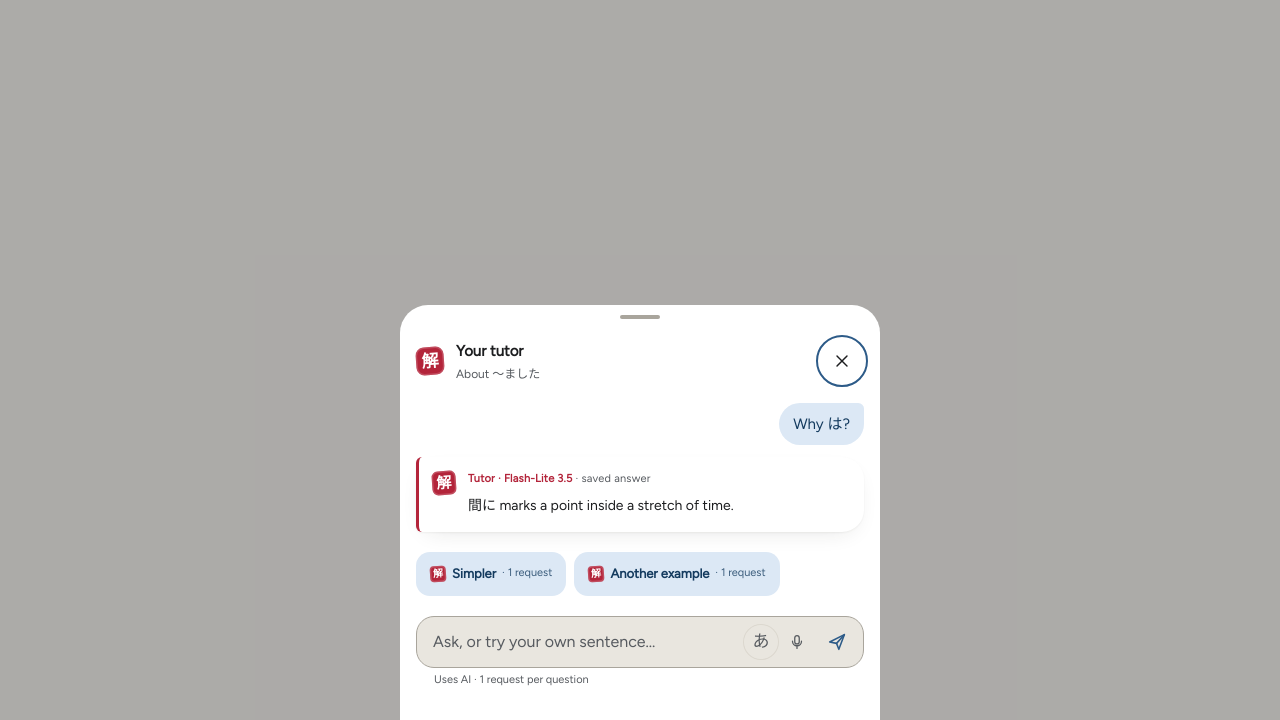
Scenario: TutorSheet › keeps the conversation to carry on, and carries on with its turns
The width and height of the screenshot is (1280, 720).
Expected: the element "answer" is shown, [416,457,864,532]
Type "And casually?" into the field named "Ask the tutor" at (586, 642), box [433,616,739,666]
Then press Enter
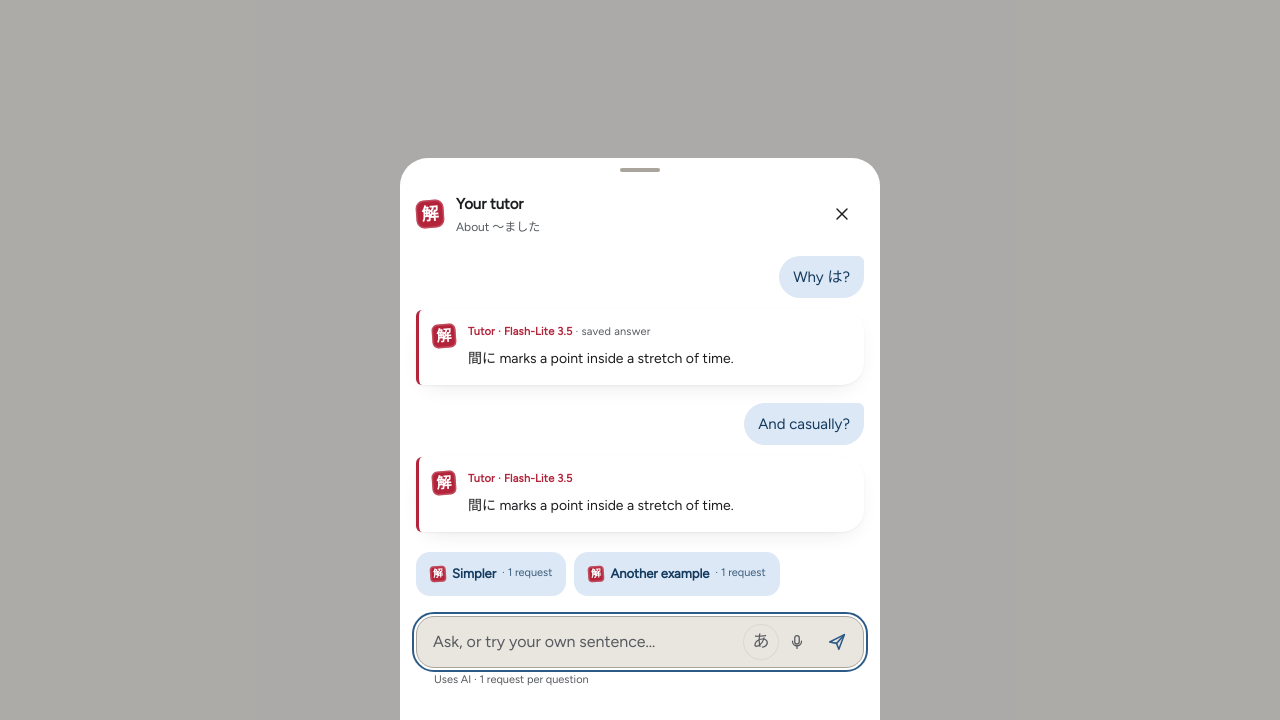
Expected: the number of elements "answer" is 2, [416,310,864,384]; [416,457,864,532]
